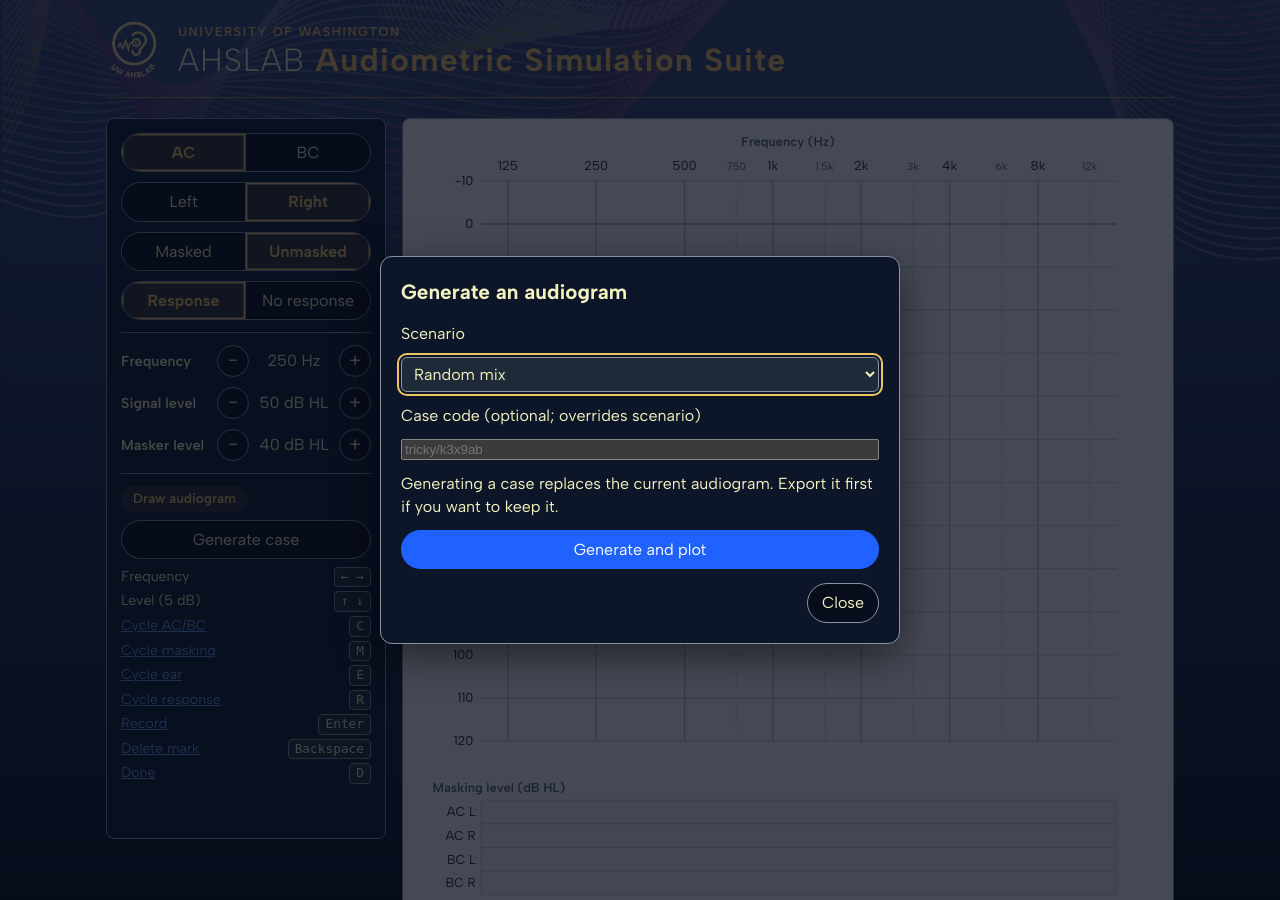
generated draw audiogram › plots a generated case and retains its history after editing and finishing
Earlier steps of the test are not shown.
Expected: the text "replaces the current audiogram" is shown, [401,474,873,516]
Select "Normal hearing" in the dropdown labelled "Scenario" at (640, 374), box [401,357,879,392]
Type "invalid" into the field labelled "Case code (optional; overrides scenario)" at (640, 449), box [401,439,879,460]
Click the button "Generate and plot" at (640, 550), box [401,530,879,570]
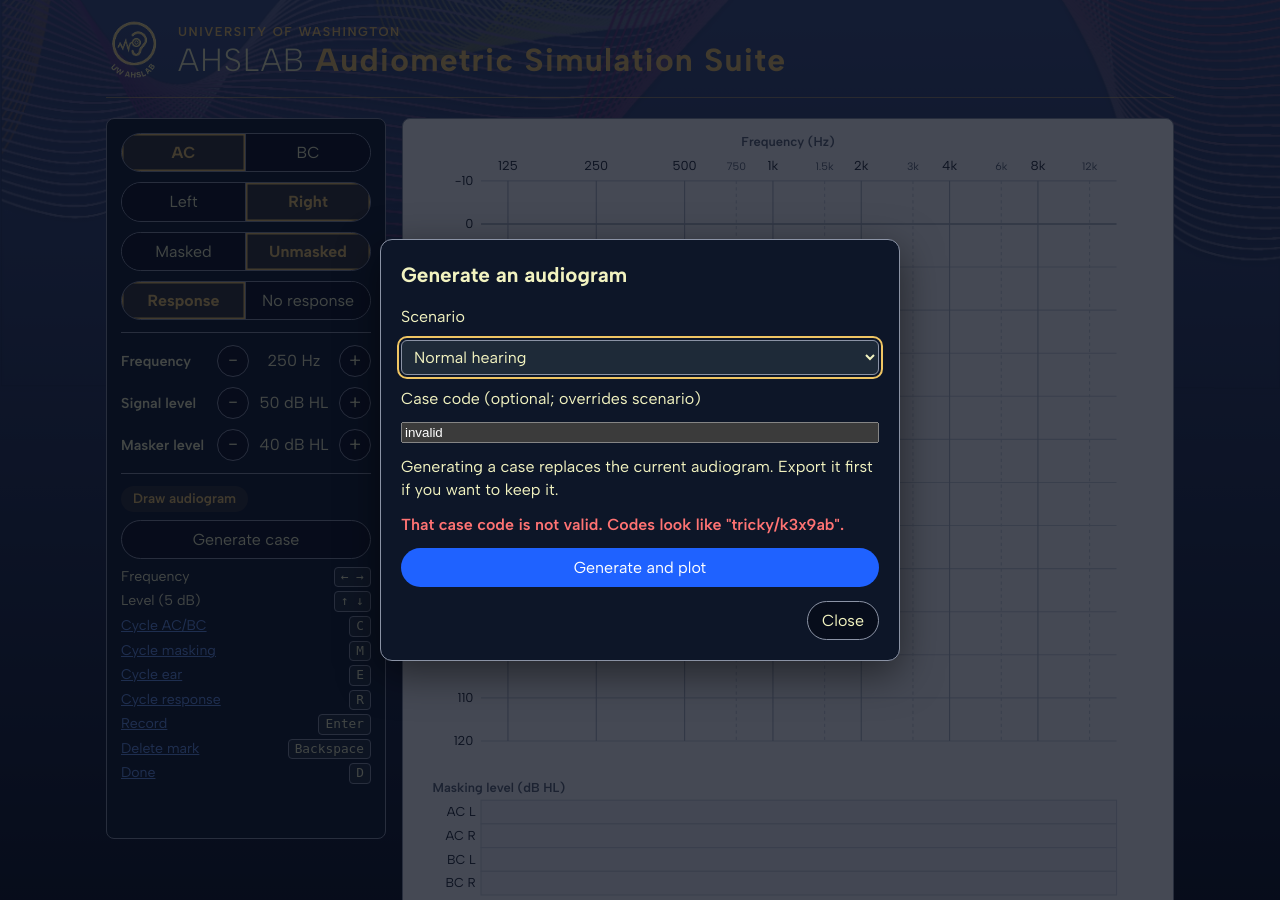
Result: the text "That case code is not valid. Codes look like \"tricky/k3x9ab\"." is shown at [401,513,879,536]
Replace the text in the field labelled "Case code (optional; overrides scenario)" with "masking-dilemma/s0" at (640, 432), box [401,421,879,442]
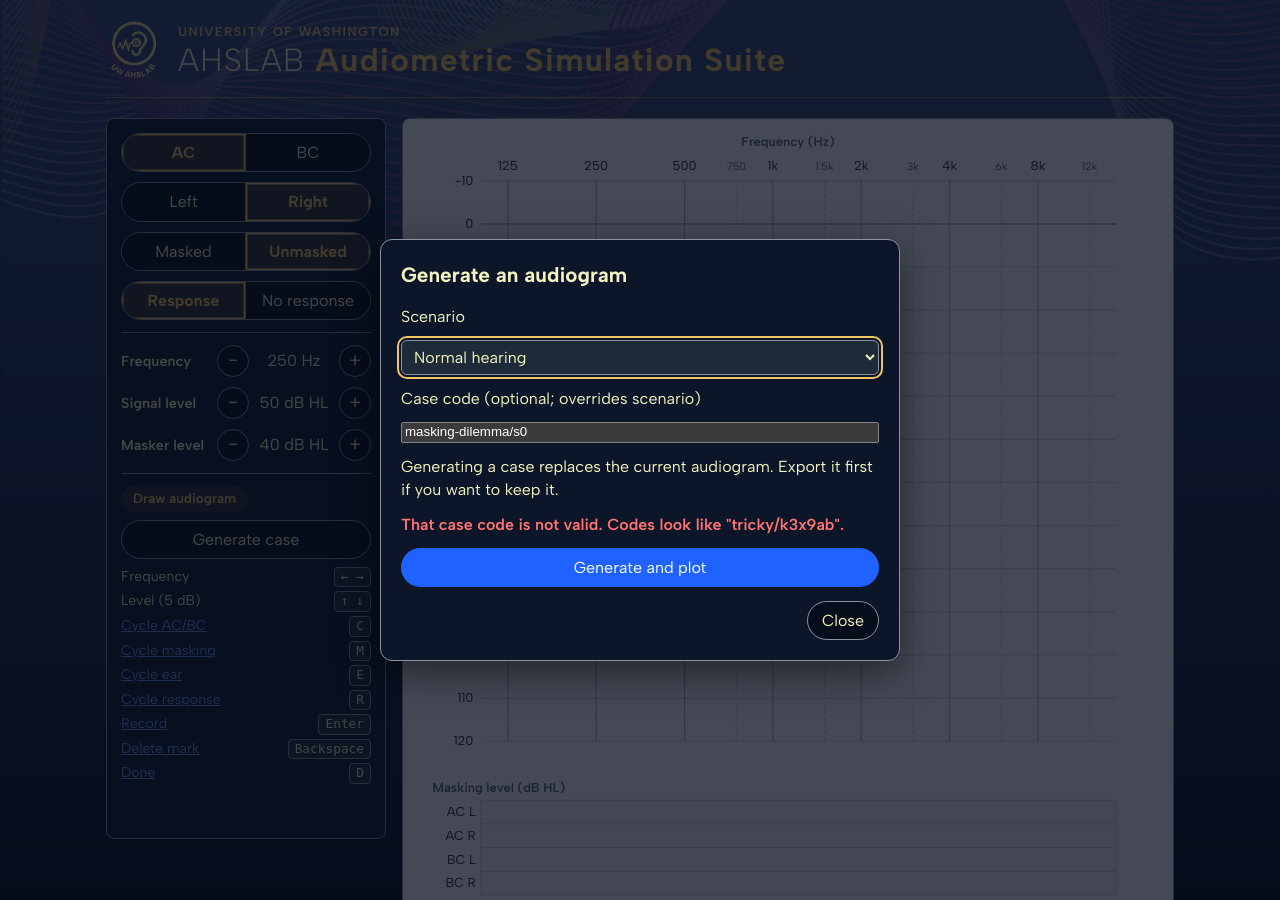
Click the button "Generate and plot" at (640, 567), box [401,548,879,587]
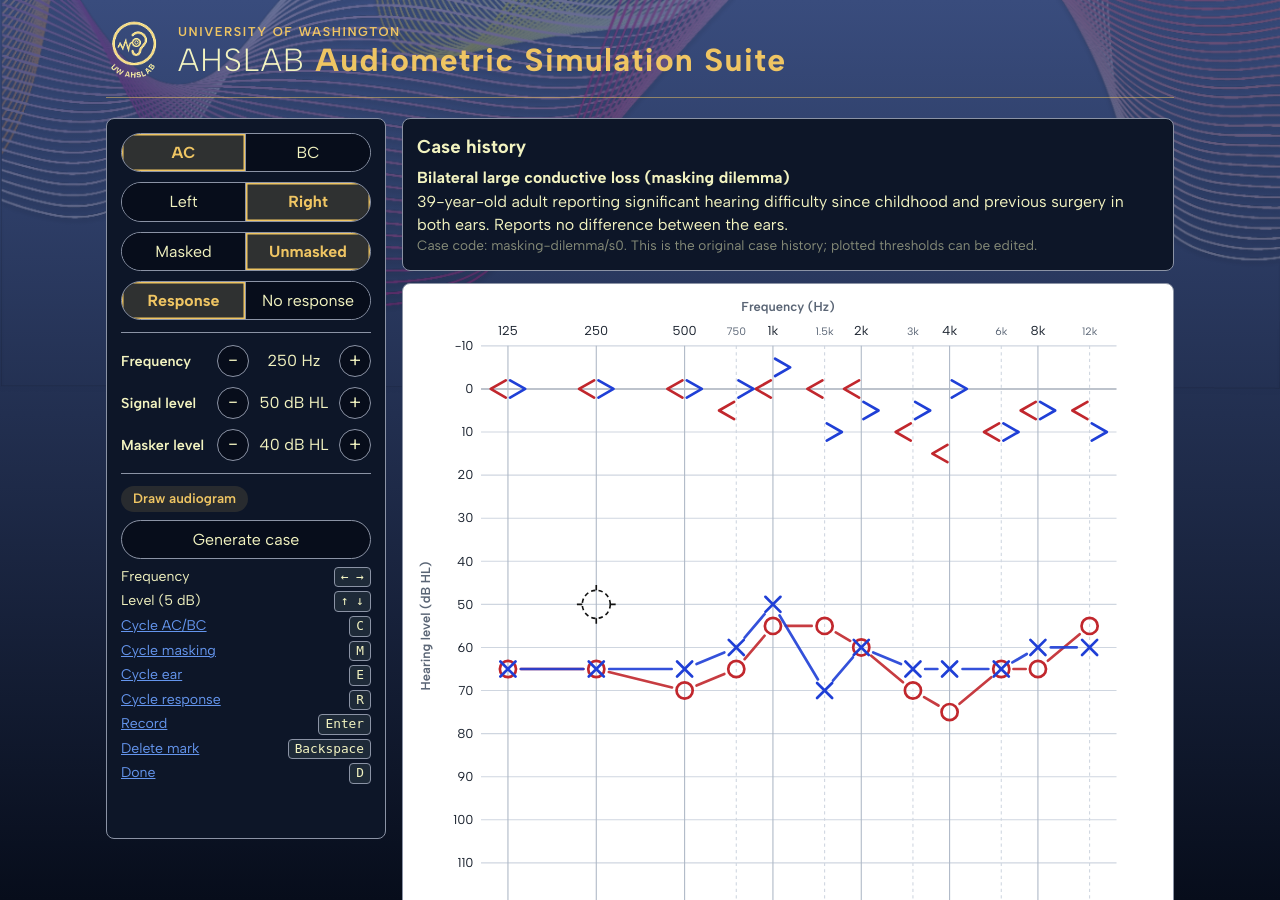
Result: the element "Case history" shows "Bilateral large conductive loss (masking dilemma)" at [417,168,790,187]
Result: the element "Case history" shows "masking-dilemma/s0" at [491,237,624,253]
Click the button "Delete mark" at (160, 749), box [121,739,199,759]
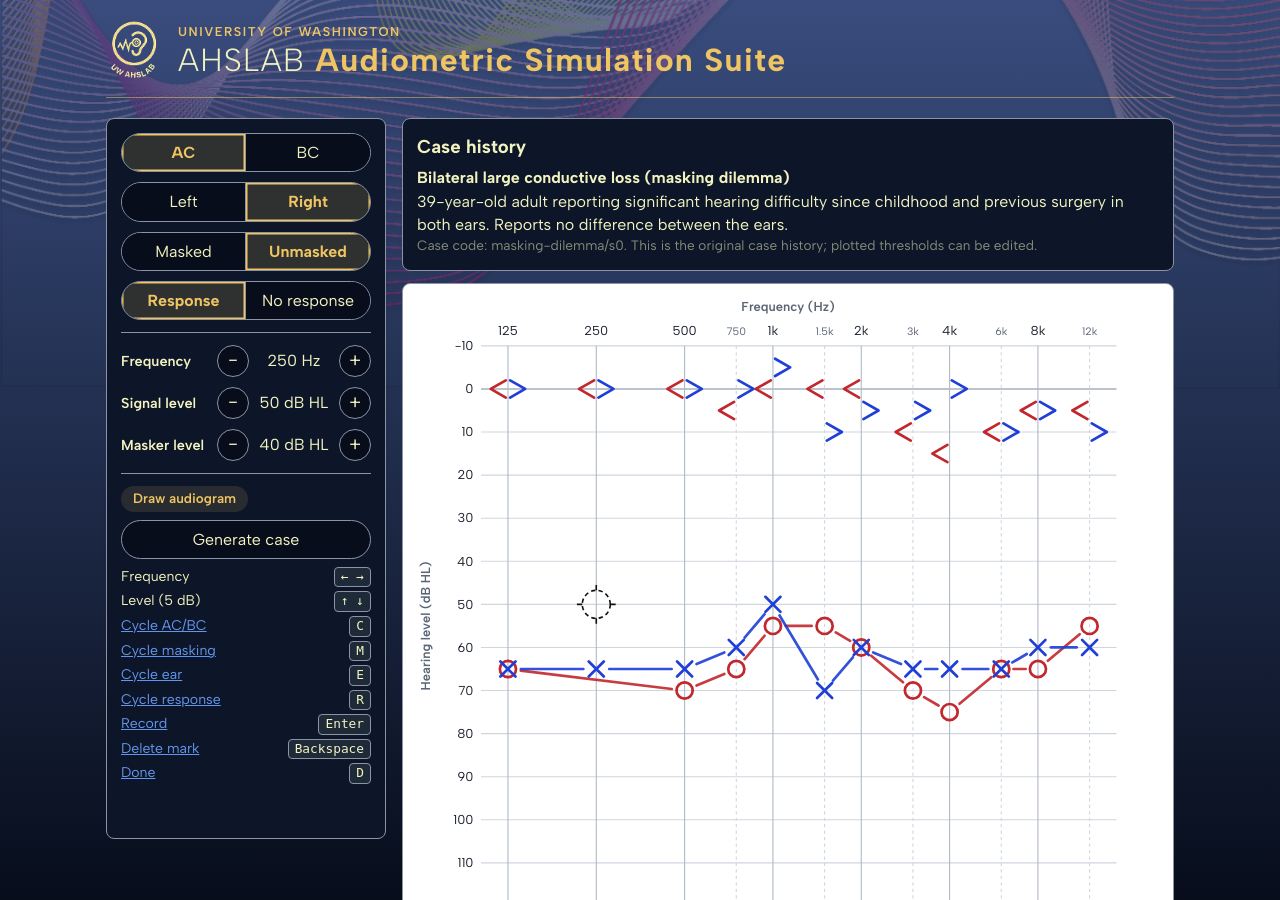
Click the button "Done" at (138, 774), box [121,763,155,784]
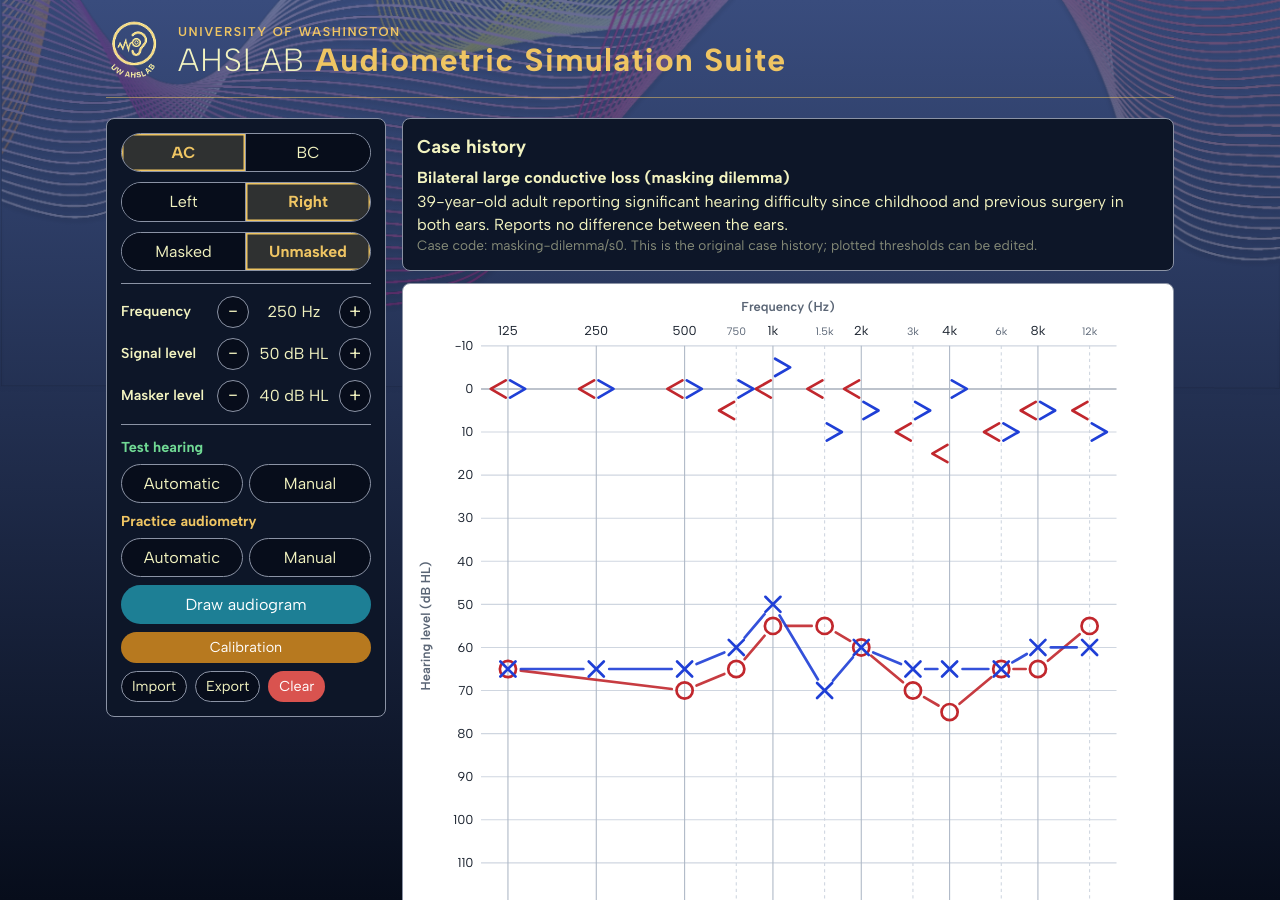
Result: the element "Case history" shows "masking-dilemma/s0" at [491,237,624,253]
Click the button "Clear" at (297, 686), box [268,671,326,702]
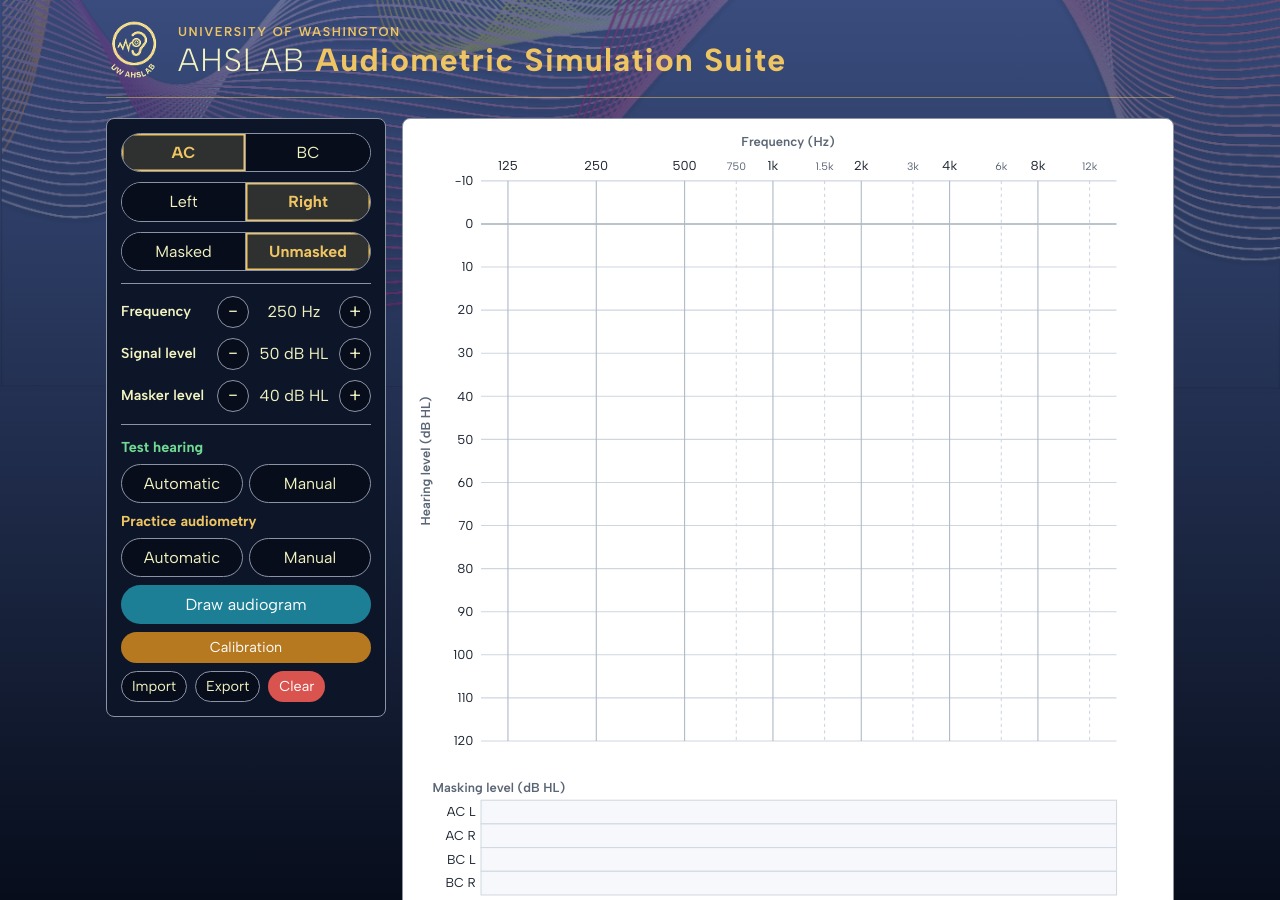
Result: the heading "Case history" is gone
